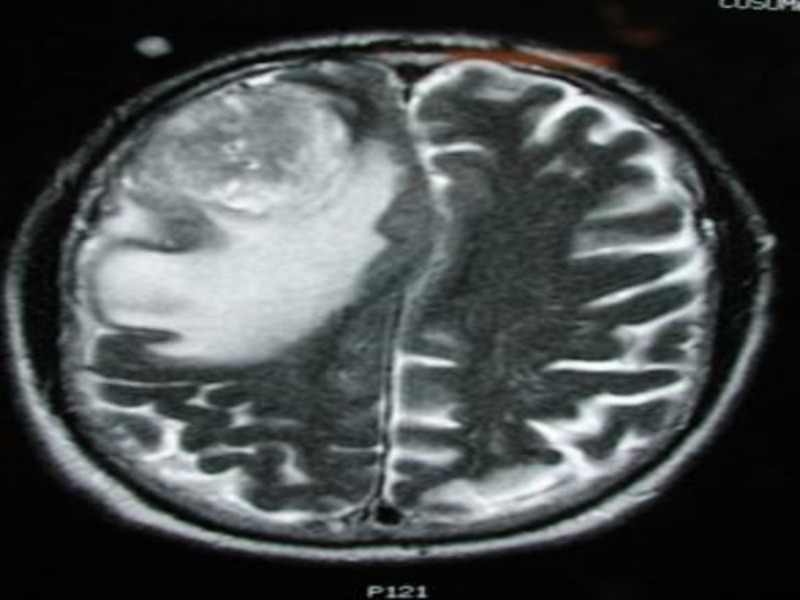tumor: (92, 146, 391, 372)
